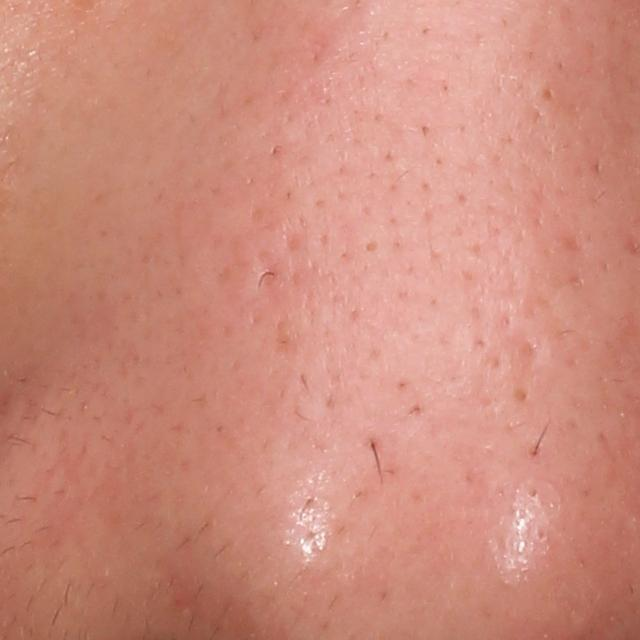atrophic_scar: (250, 254, 291, 315), (282, 220, 305, 257)
comedo: (358, 233, 383, 260), (535, 82, 563, 105)
